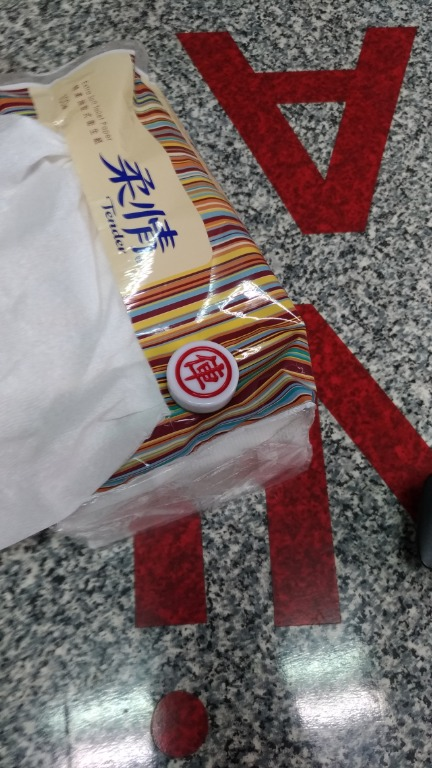r-rook: (161, 335, 251, 413)
